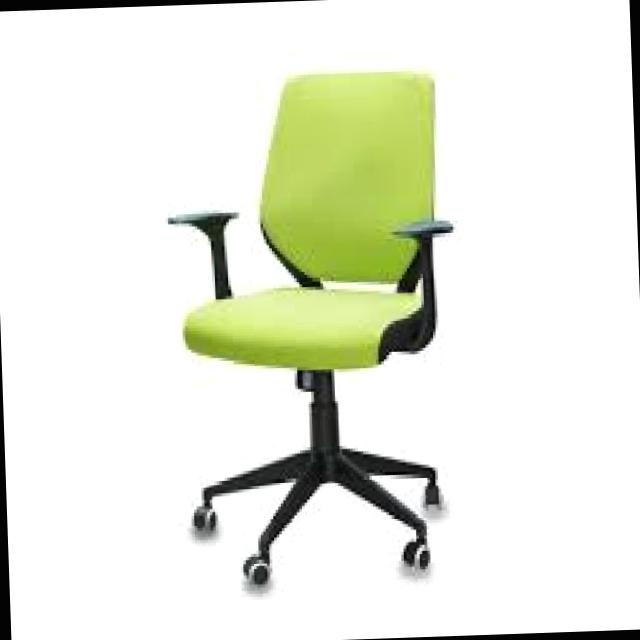obstacle: (140, 49, 531, 628)
